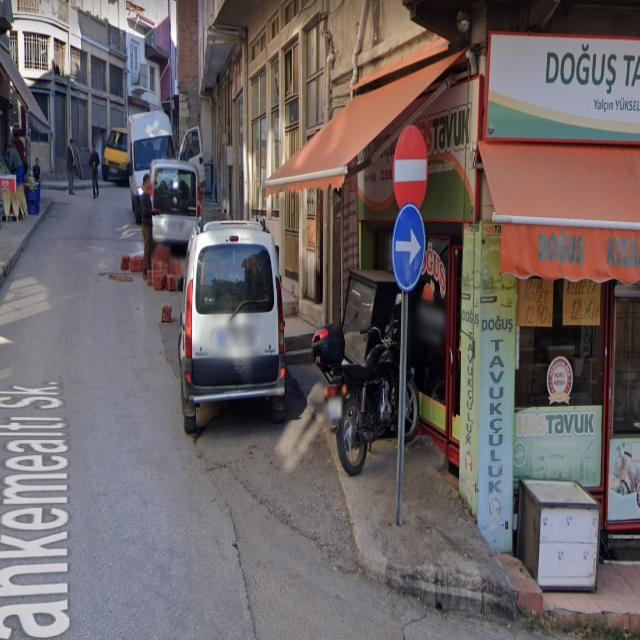girisyok: (393, 125, 428, 214)
sag: (392, 203, 426, 290)
